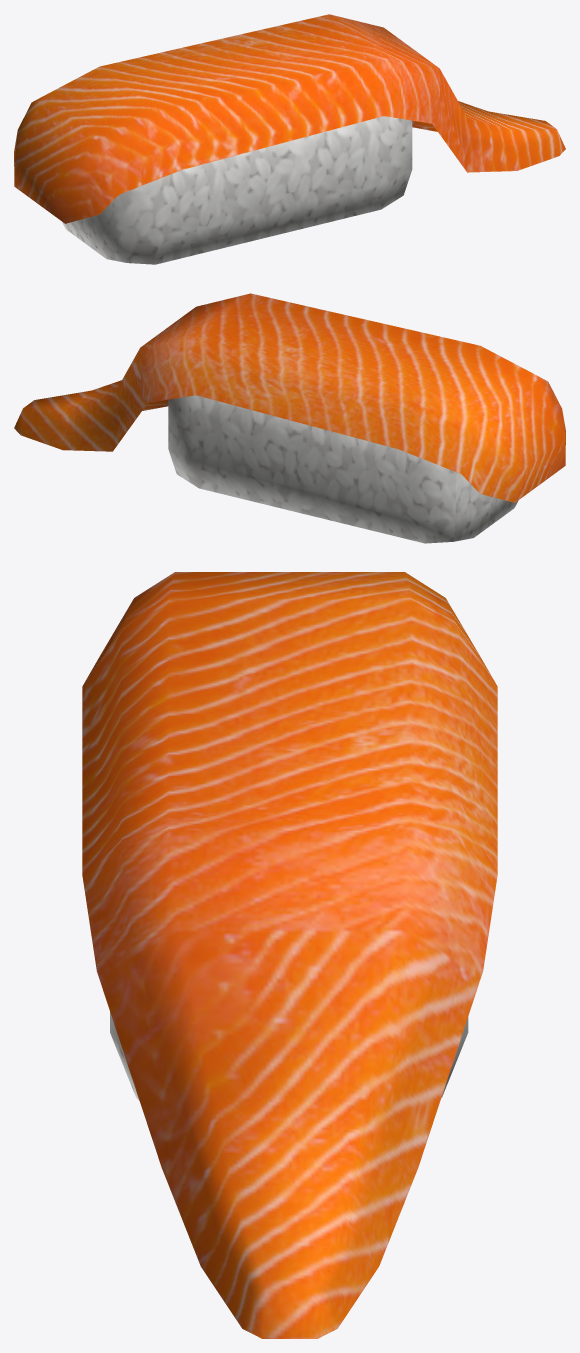
Rendered from SM_Salmon_03.FBX.
3 renders of one model, top to bottom at view 1: azimuth 30°, elevation 25°; view 2: azimuth 150°, elevation 25°; view 3: azimuth 270°, elevation 25°, orthographic. The views are drawn at different scales.
Visible parts, largest first — view 1: Salmon_03; view 2: Salmon_03; view 3: Salmon_03.
Part boxes in pixels (<box>): Salmon_03: <box>14,14,565,264</box>; Salmon_03: <box>14,293,565,543</box>; Salmon_03: <box>82,572,497,1338</box>.
Bounding box in the file's own units: 10.12 × 2.97 × 3.48.
